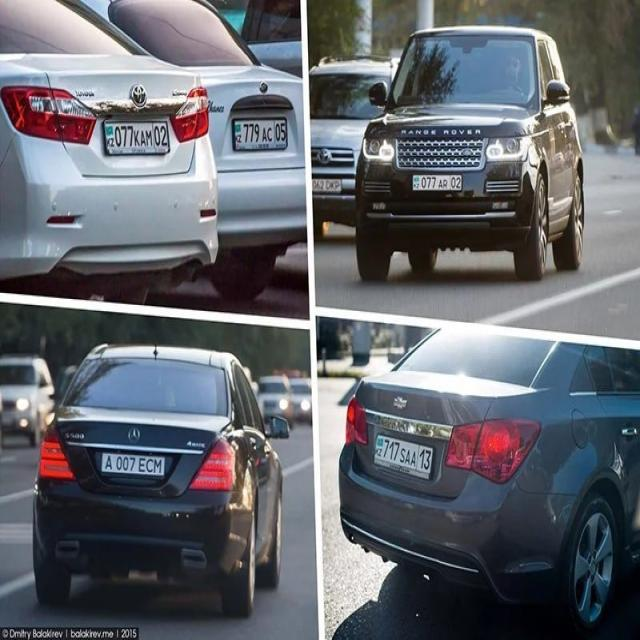car: (338, 320, 639, 632), (32, 341, 290, 617), (353, 24, 584, 282)
license: (372, 434, 434, 479), (103, 118, 170, 155), (232, 115, 288, 152)
